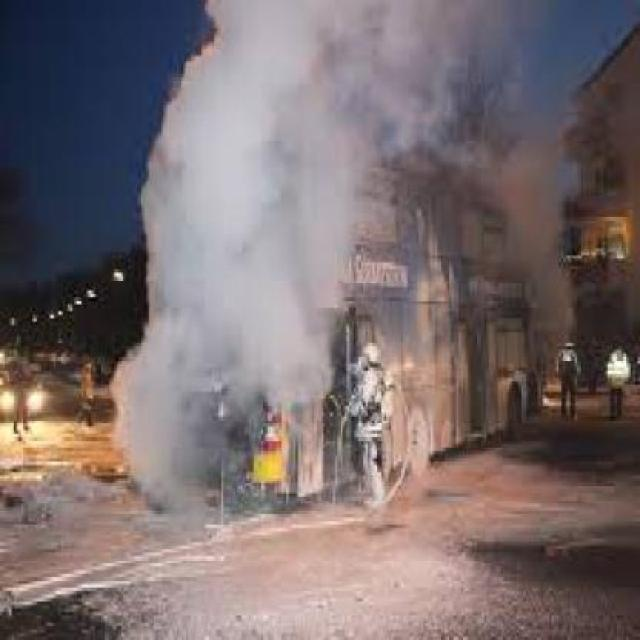Smoke: (125, 0, 510, 500), (492, 113, 600, 344)
